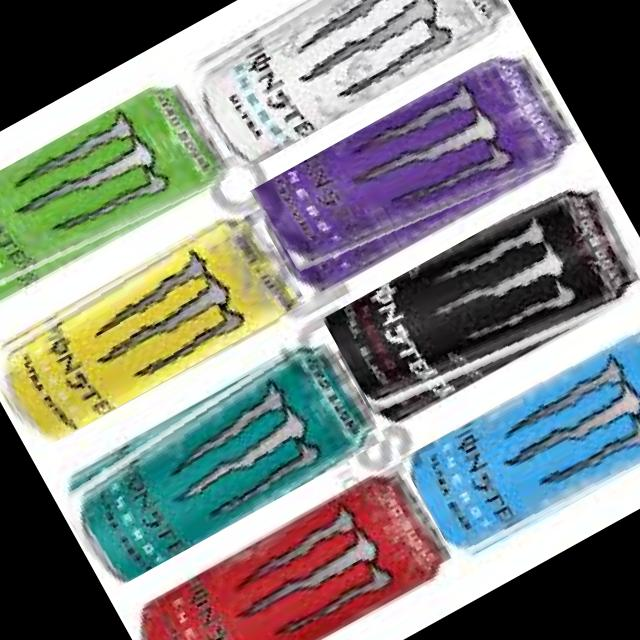Cans: (248, 36, 591, 304), (46, 327, 384, 593), (322, 165, 640, 440), (0, 200, 306, 454), (115, 451, 463, 640), (396, 307, 640, 572), (0, 69, 240, 329), (175, 0, 519, 175)
